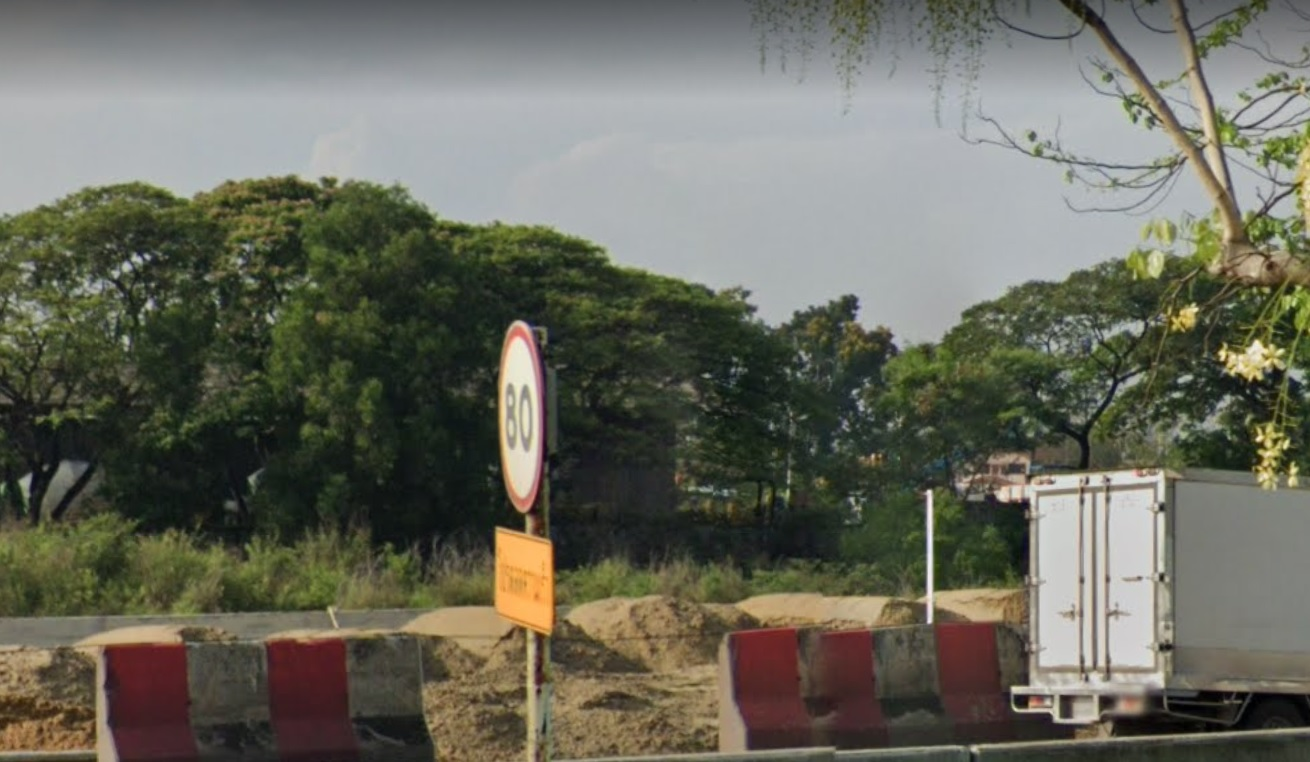80KPH: (492, 311, 548, 521)
